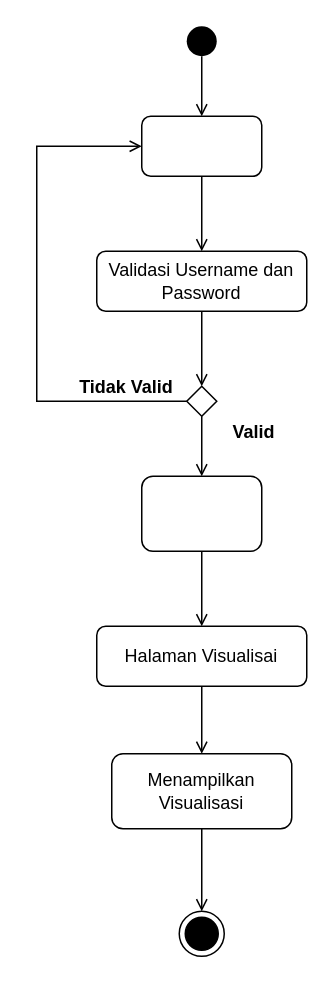
Image size: 333x983. Some labels were removed from this diagram. Here are the shapes that lost their labels. From the top down, the box of each, then its label:
(140, 115, 262, 176): Login
(140, 475, 262, 551): Dashboard
